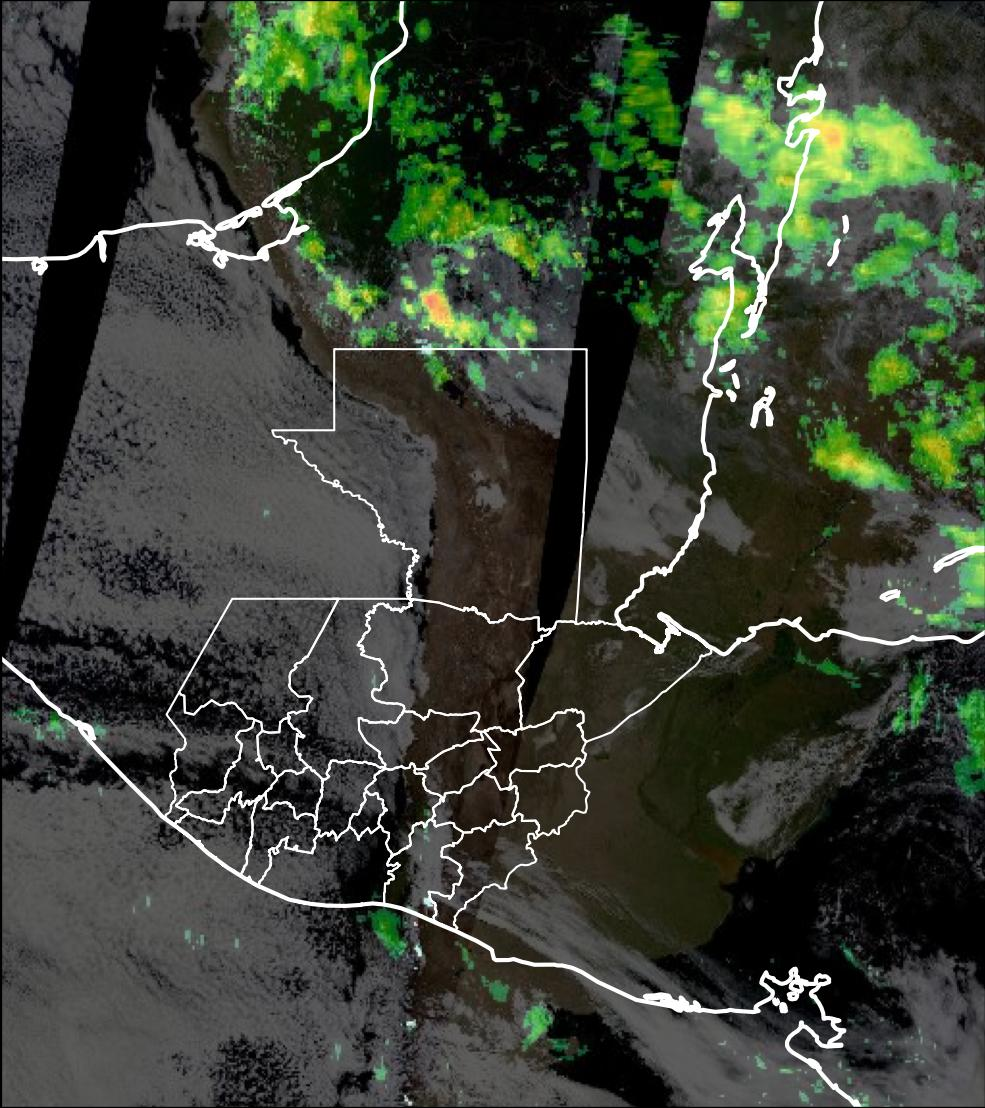precipitacion: (410, 289, 490, 344)
